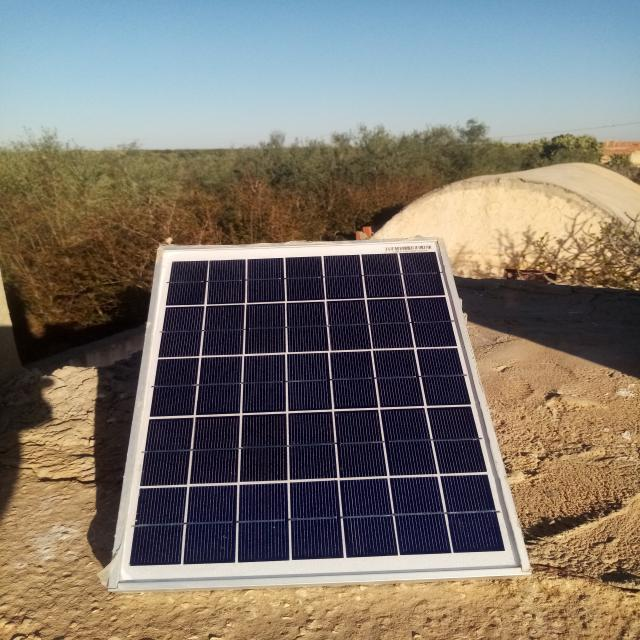Normal Solar Panel: (115, 238, 527, 589)
